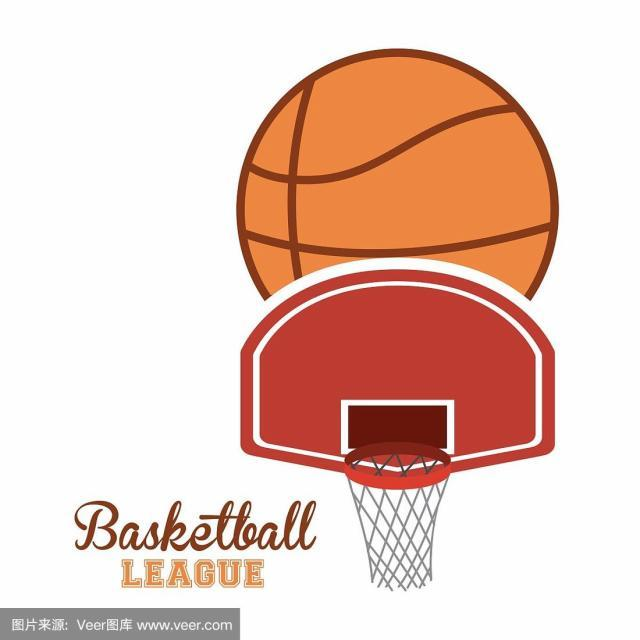rim: (236, 46, 562, 292)
